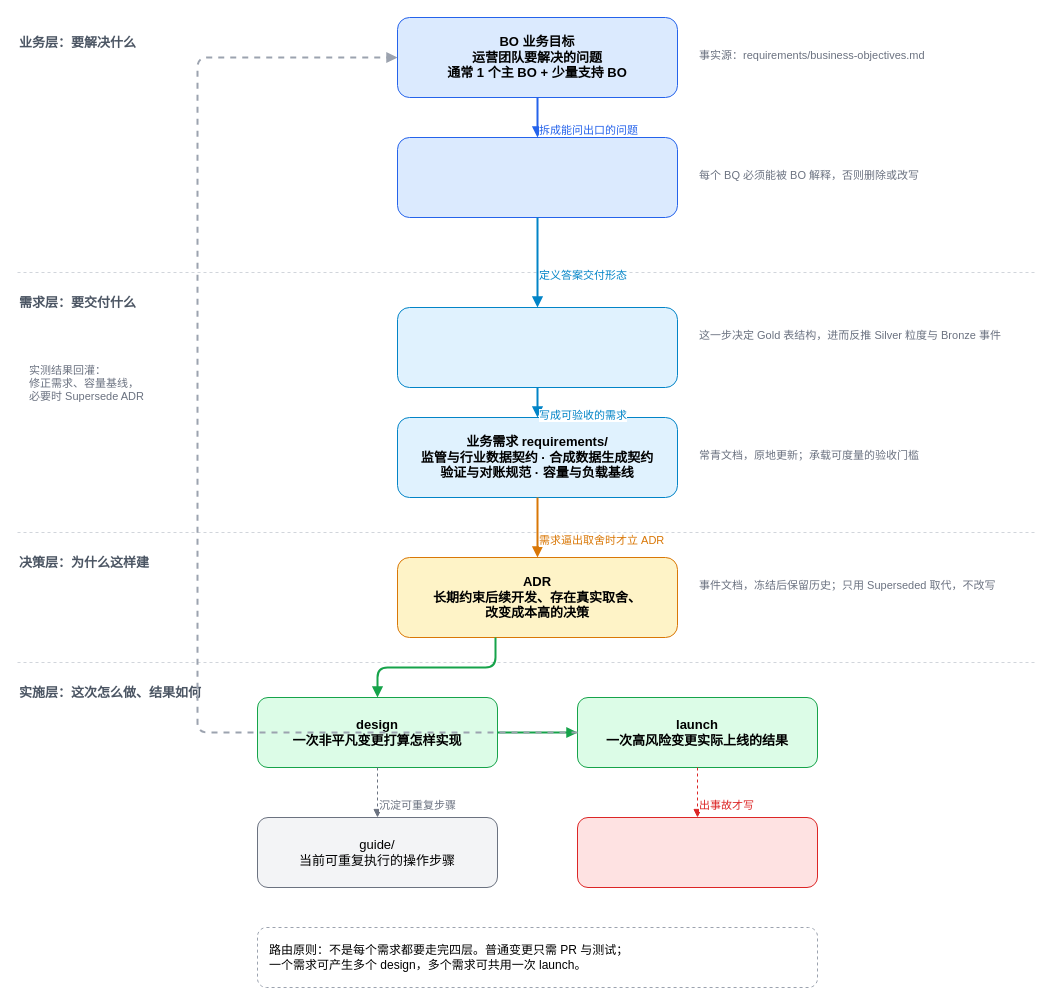
The diagram is 1055 pixels wide and 1005 high, and some of its shapes have lost their labels. The centre of each missing label's shape, as x and y in pixels:
BQ 业务问题 业务人员对着数据问出口的疑问句 例：哪些交易本批次没有对平: the point at 537,177
postmortem 已造成实际影响的事故复盘: the point at 697,852
答案形态 这个问题被回答时长什么样 字段、粒度、口径、可追溯到哪一层: the point at 537,347
